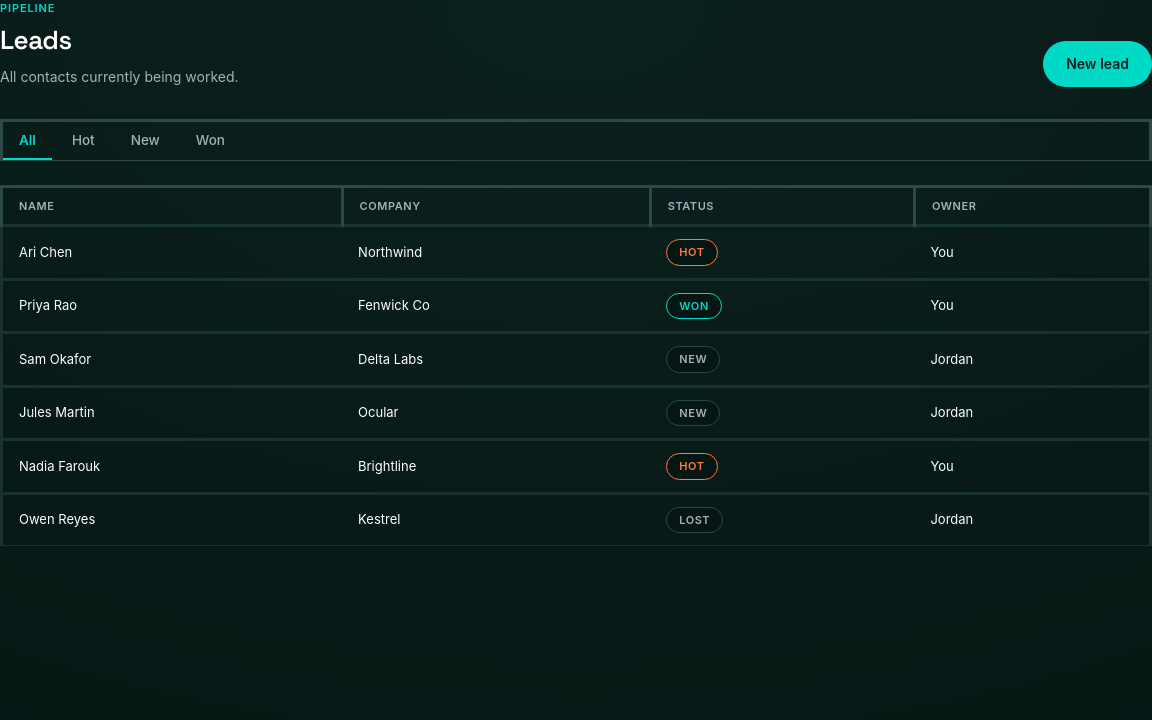
Test: StandaloneKitView (branch) › öffnet und schließt das Lead-Modal
Expected: the text "Add a new lead" is not shown
Click the button "New lead" at (1098, 64), box [1043, 40, 1151, 86]
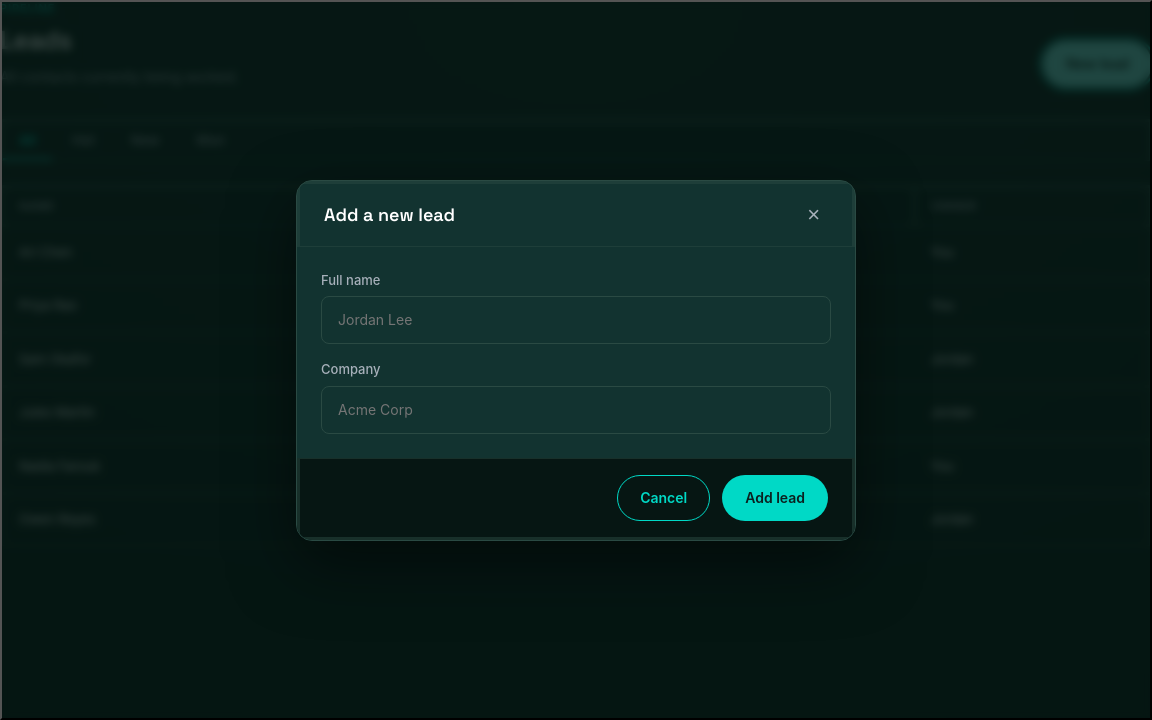
Expected: the heading "Add a new lead" is shown, [324, 201, 455, 228]
Expected: the field with placeholder "Jordan Lee" is shown, [321, 296, 831, 344]
Click the button "Cancel" at (664, 498), box [617, 474, 710, 520]
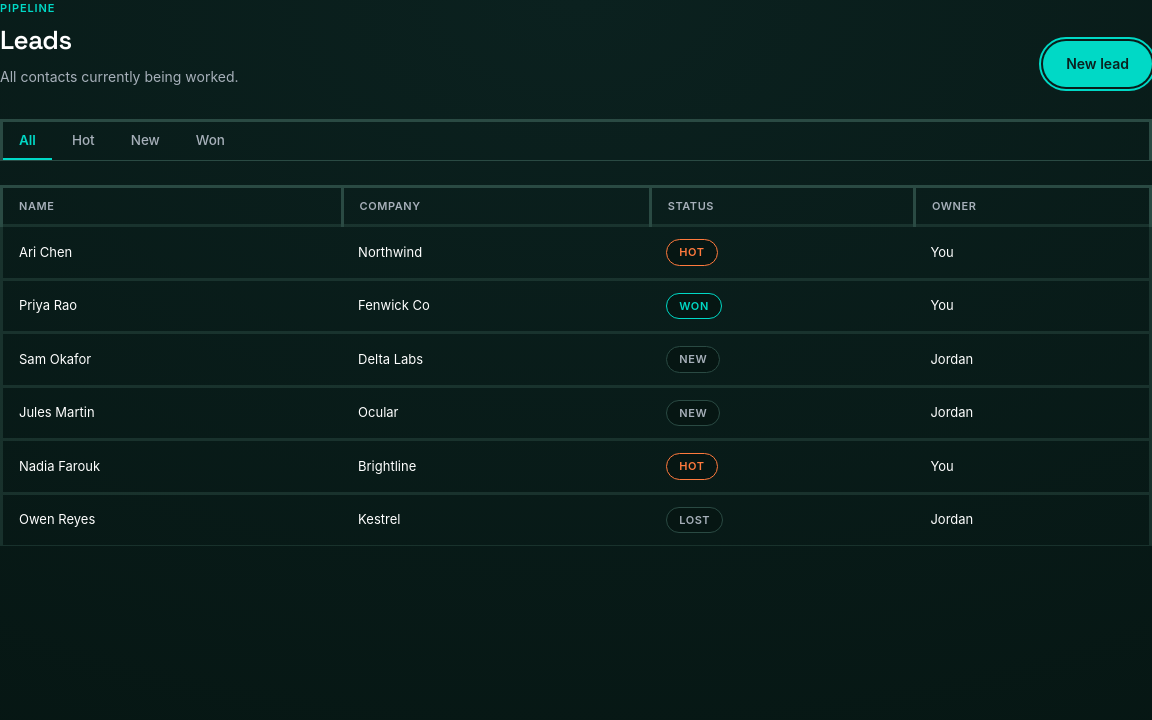
Expected: the heading "Add a new lead" is gone
